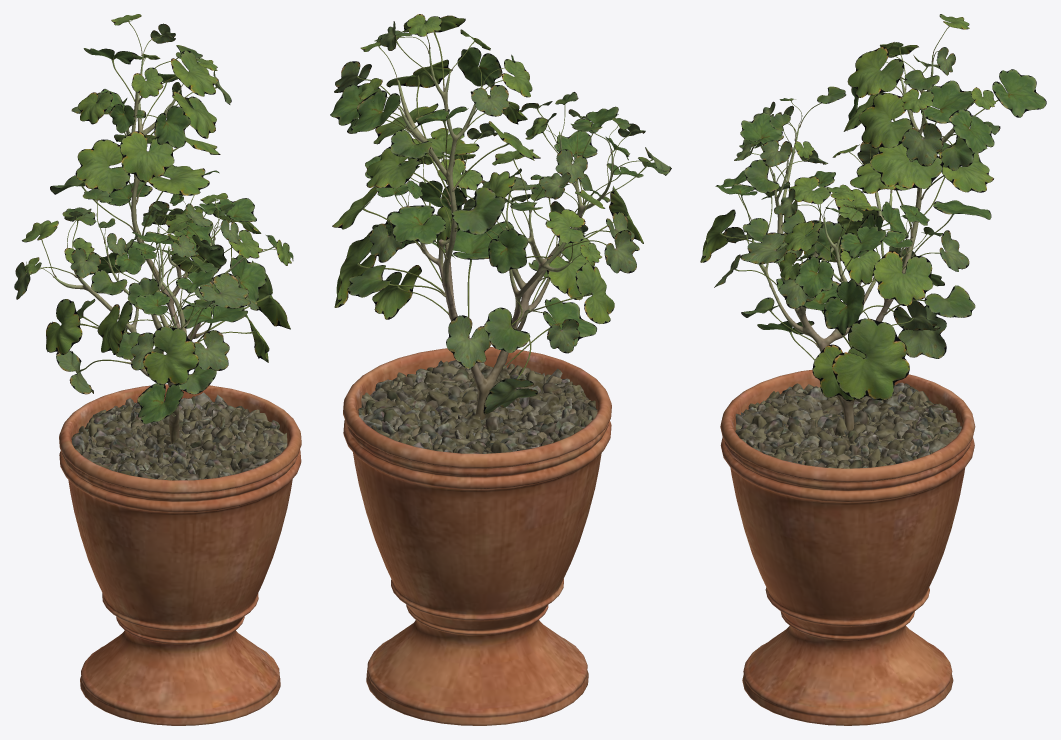
3 renders of one model, left to right at view 1: azimuth 30°, elevation 25°; view 2: azimuth 150°, elevation 25°; view 3: azimuth 270°, elevation 25°, orthographic. The views are drawn at different scales.
Visible parts, largest first — view 1: potted_plant_01_pot, potted_plant_01_leaves, potted_plant_01_pebbles, potted_plant_01_stem; view 2: potted_plant_01_pot, potted_plant_01_leaves, potted_plant_01_pebbles, potted_plant_01_stem; view 3: potted_plant_01_pot, potted_plant_01_leaves, potted_plant_01_pebbles, potted_plant_01_stem.
Boxes of the visible parts, <box> form: potted_plant_01_pot: <box>59,384,301,725</box>; potted_plant_01_leaves: <box>14,14,293,423</box>; potted_plant_01_pebbles: <box>71,392,287,480</box>; potted_plant_01_stem: <box>53,54,244,443</box>; potted_plant_01_pot: <box>343,347,611,725</box>; potted_plant_01_leaves: <box>330,14,671,414</box>; potted_plant_01_pebbles: <box>358,360,597,453</box>; potted_plant_01_stem: <box>397,49,612,420</box>; potted_plant_01_pot: <box>720,369,975,725</box>; potted_plant_01_leaves: <box>700,14,1046,401</box>; potted_plant_01_pebbles: <box>735,382,961,468</box>; potted_plant_01_stem: <box>751,55,966,431</box>.
Size of the model in its own units: 0.5874 by 1.34 by 0.6336.
2 materials, 2 textured.
